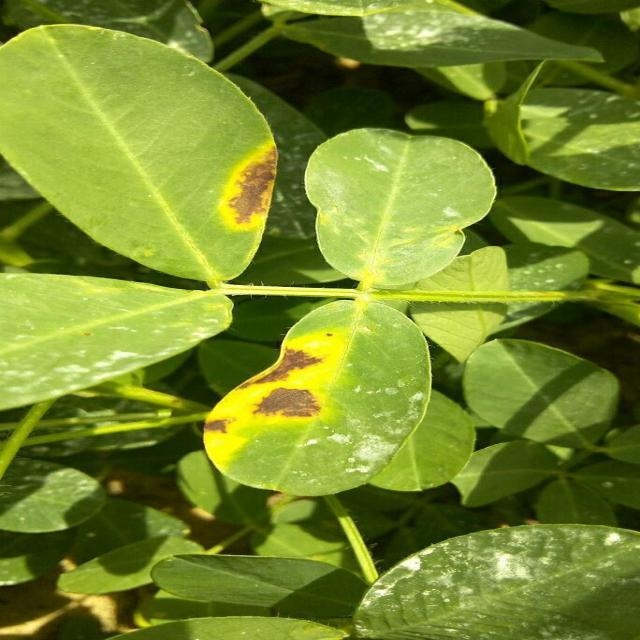Bacterial_Spot: (62, 134, 477, 474)
